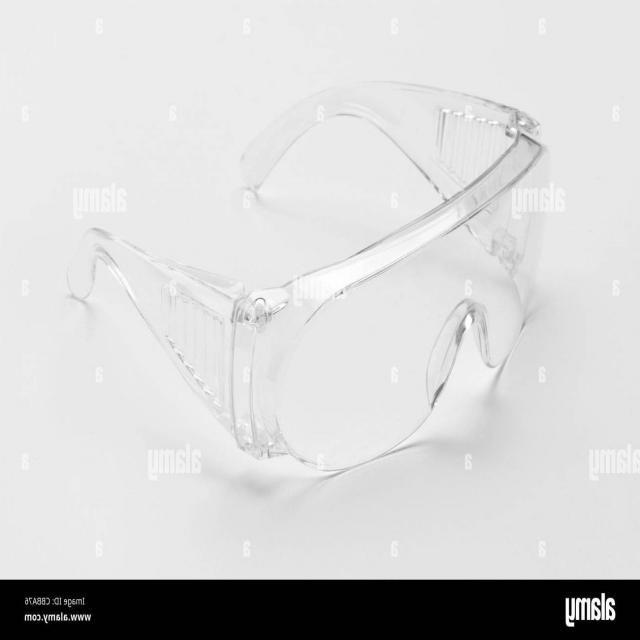Goggles: (57, 155, 518, 512)
